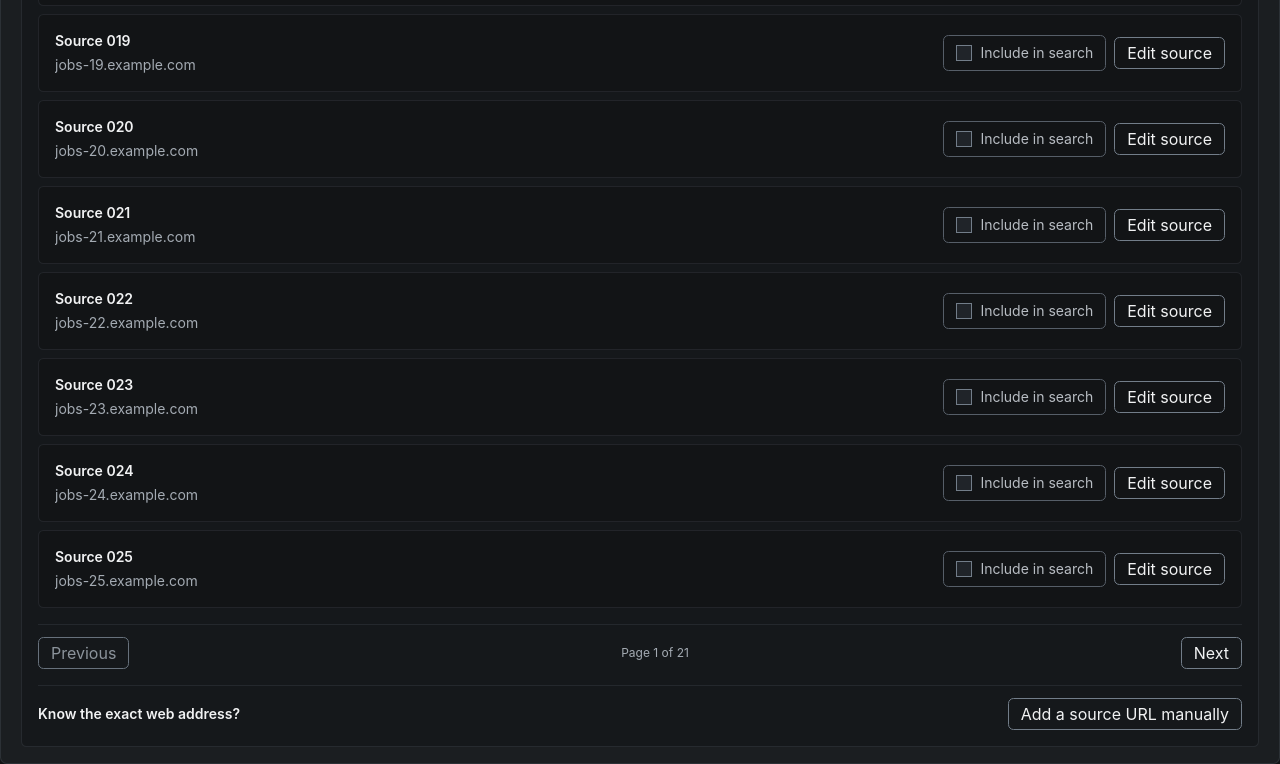
Test: ProfileSetupTargetingStep source scale › keeps a 511-entry catalog bounded to one searchable 25-row page
The image size is (1280, 764).
(page scrolled)
Expected: the text "Source 026" is not shown
Click the button "Next". click: (1211, 653)
box: [1181,637,1242,669]
(page scrolled)
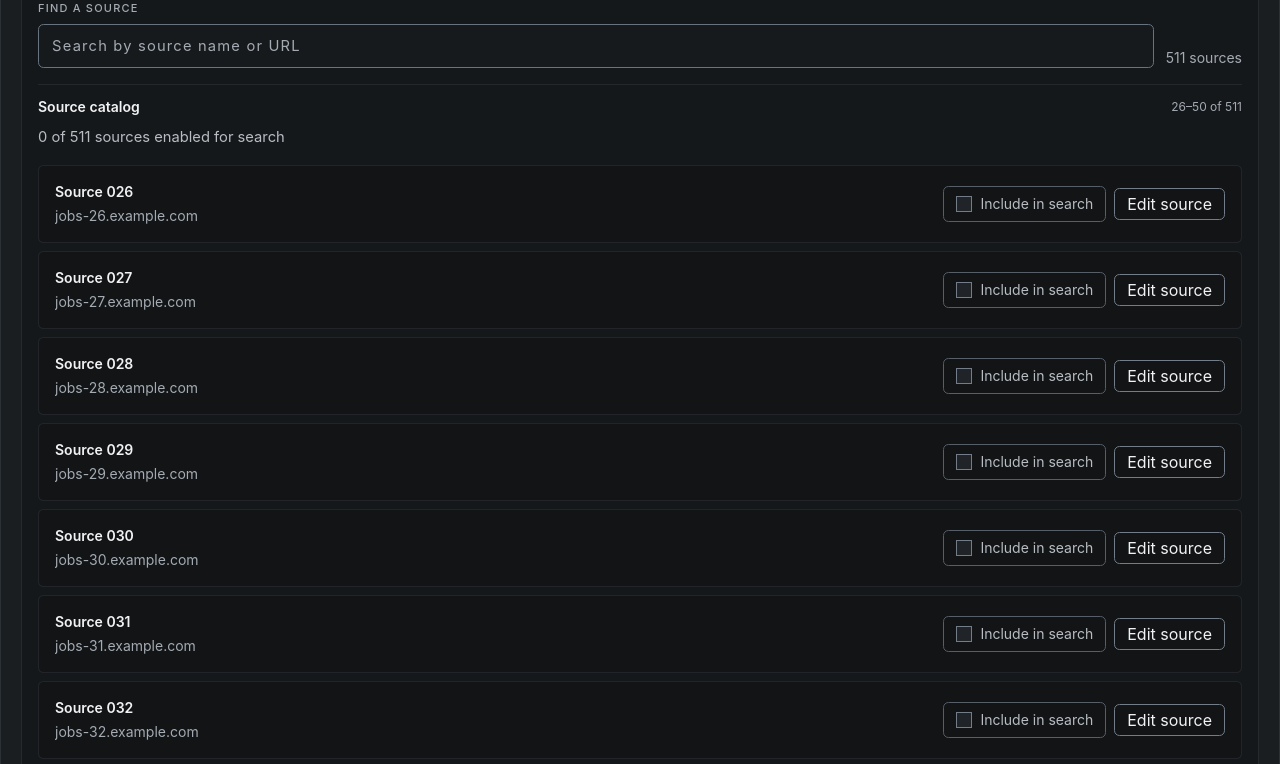
Result: the text "26–50 of 511" is shown at [1171,99,1242,115]
Result: the text "Source 026" is shown at [55,183,133,200]
Type "source 511" into the search field labelled "Find a source". click: (596, 46)
box: [38,24,1154,68]
(page scrolled)
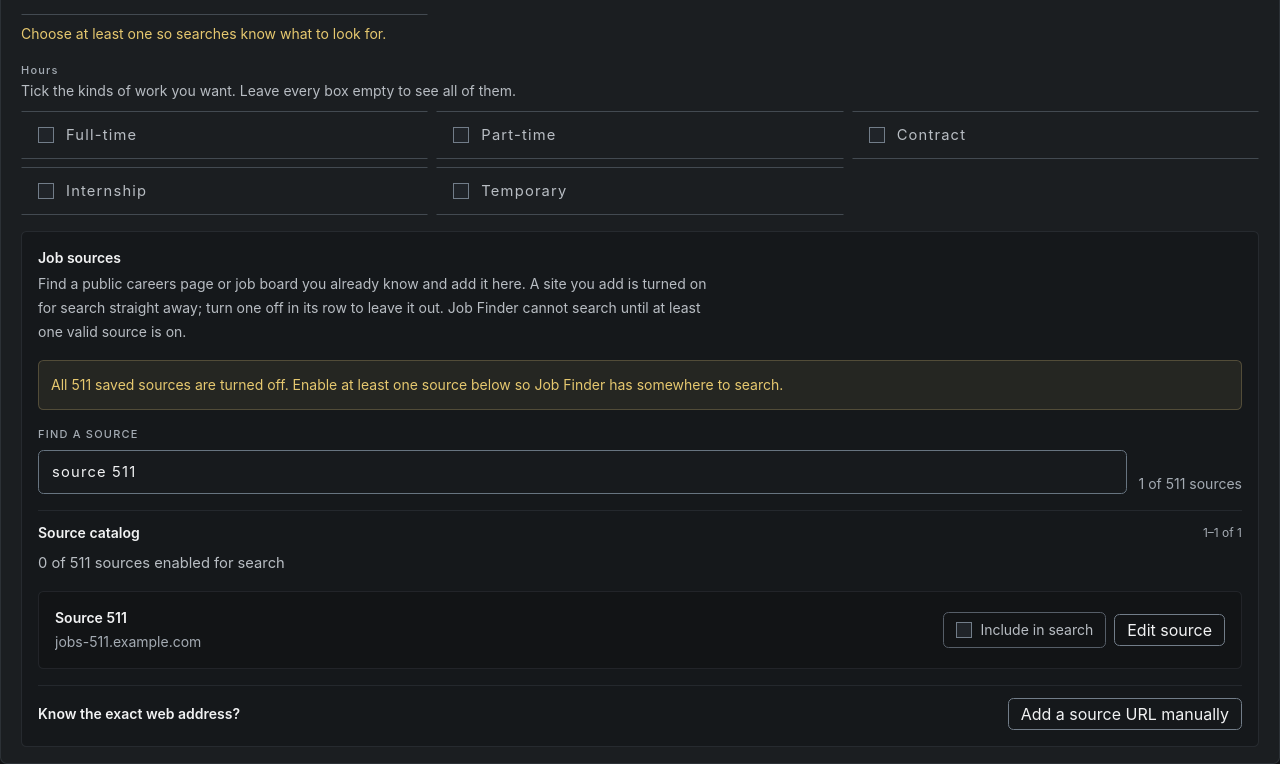
Expected: the text "Source 511" is shown, [55,609,127,626]
Result: the text "1 of 511 sources" is shown at [1139,474,1242,494]
Clear the search field labelled "Find a source". click: (582, 472)
box: [38,450,1127,494]
(page scrolled)
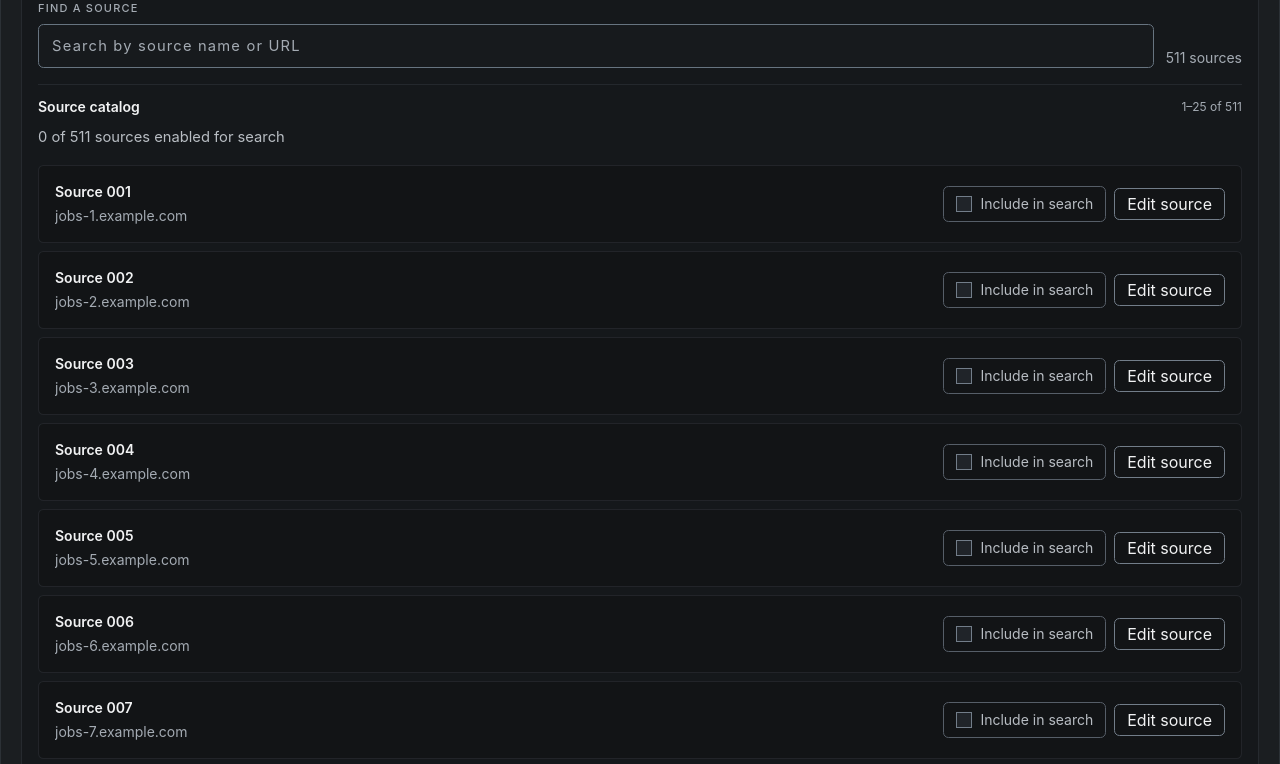
Expected: the text "511 sources" is shown, [1166,48,1242,68]
Result: the text "1–25 of 511" is shown at [1181,99,1242,115]
